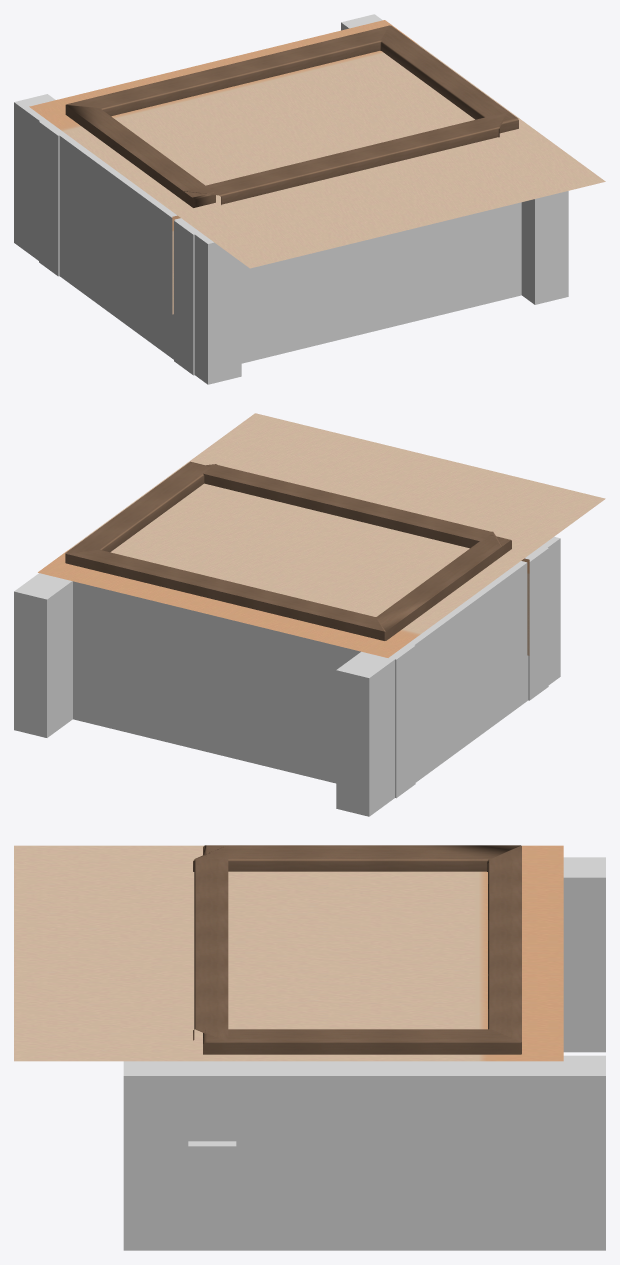
Rendered from maison_etage.glb.
The picture shows the model from 3 angles, top to bottom: view 1: azimuth 30°, elevation 25°; view 2: azimuth 150°, elevation 25°; view 3: azimuth 270°, elevation 25°; orthographic projection. The views are drawn at different scales.
Parts seen in each view (by area): view 1: wall_t001r0102_girl.002, mur_sud_colli, mur_ouest_colli, wood_base_t001r0102_girl, wood_base_t001r0102_girl.001, mur_est_colli, mur_nord_colli; view 2: wall_t001r0102_girl.002, mur_nord_colli, mur_ouest_colli, wood_base_t001r0102_girl, mur_est_colli, wood_base_t001r0102_girl.001, mur_sud_colli; view 3: wall_t001r0102_girl.002, mur_est_colli, wood_base_t001r0102_girl, mur_ouest_colli, wood_base_t001r0102_girl.001, meuble_colli.
Part boxes in pixels (left/top/right/bottom): wall_t001r0102_girl.002: left=29, top=20, right=605, bottom=268; mur_sud_colli: left=174, top=202, right=521, bottom=375; mur_ouest_colli: left=14, top=94, right=241, bottom=384; wood_base_t001r0102_girl: left=65, top=25, right=518, bottom=207; wood_base_t001r0102_girl.001: left=184, top=112, right=509, bottom=204; mur_est_colli: left=341, top=14, right=568, bottom=304; mur_nord_colli: left=39, top=120, right=65, bottom=276; wall_t001r0102_girl.002: left=38, top=413, right=605, bottom=657; mur_nord_colli: left=73, top=581, right=415, bottom=798; mur_ouest_colli: left=336, top=536, right=560, bottom=816; wood_base_t001r0102_girl: left=65, top=461, right=511, bottom=640; mur_est_colli: left=14, top=573, right=72, bottom=737; wood_base_t001r0102_girl.001: left=183, top=464, right=502, bottom=548; mur_sud_colli: left=528, top=548, right=548, bottom=700; wall_t001r0102_girl.002: left=14, top=845, right=563, bottom=1061; mur_est_colli: left=123, top=1055, right=605, bottom=1250; wood_base_t001r0102_girl: left=203, top=845, right=521, bottom=1054; mur_ouest_colli: left=563, top=857, right=605, bottom=1052; wood_base_t001r0102_girl.001: left=193, top=846, right=228, bottom=1042; meuble_colli: left=188, top=1141, right=236, bottom=1189.
Size of the model in its own units: 1102 by 451 by 1227.
40 materials, 35 textured.
